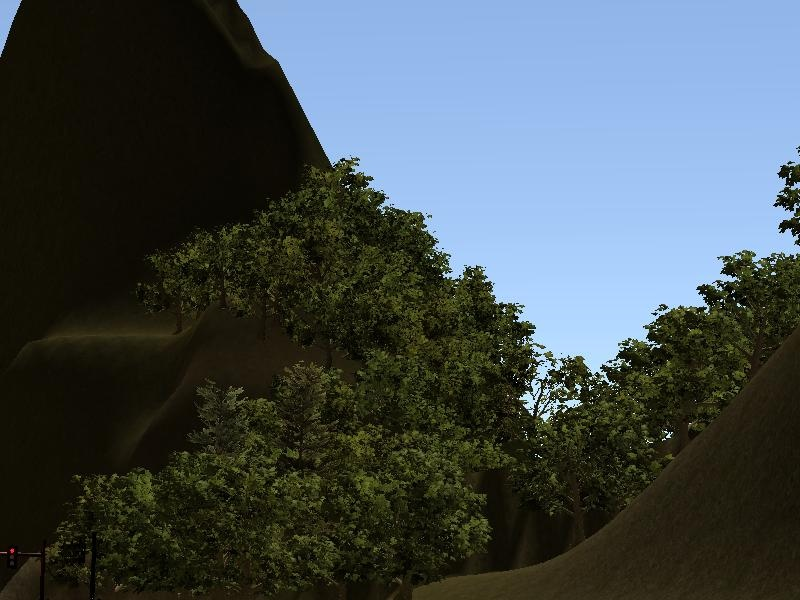Red: (6, 545, 18, 570)
